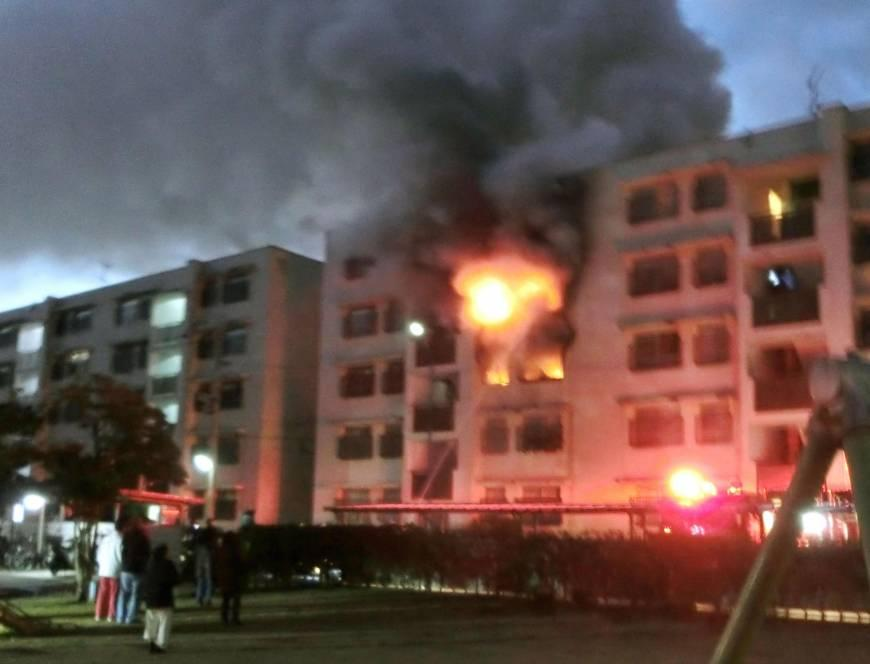Fire: (461, 258, 593, 393)
